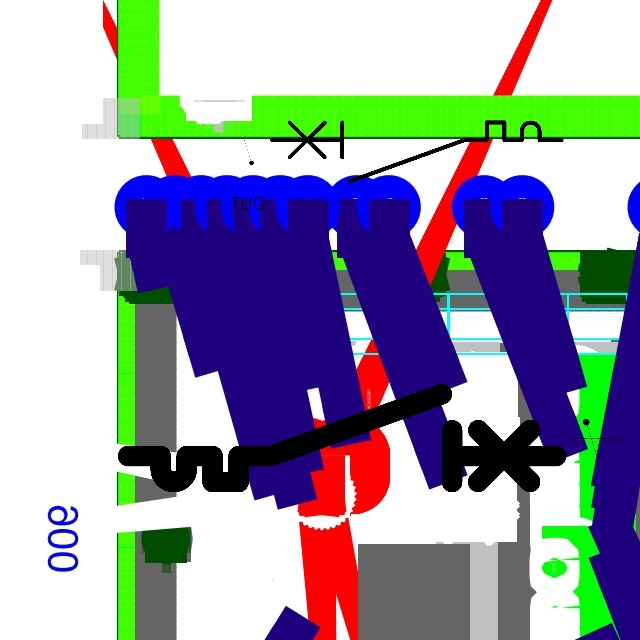interruptor_termomagnetico: (117, 383, 567, 493), (264, 115, 568, 189)
